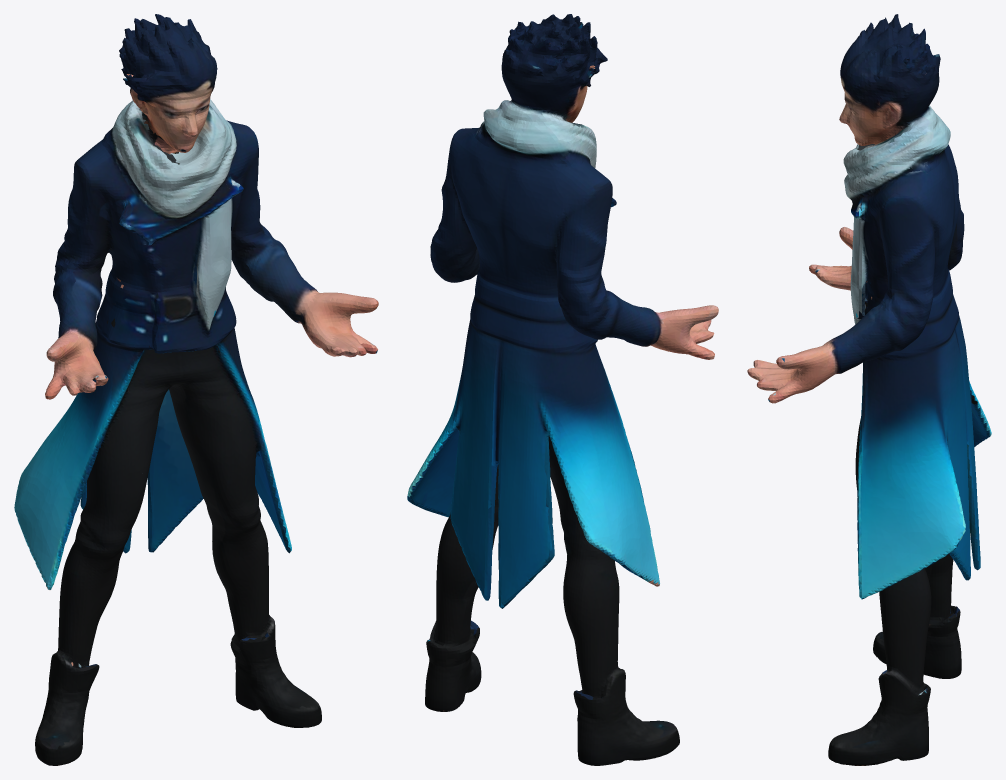
The model's file is kael.glb.
3 renders of one model, left to right at view 1: azimuth 30°, elevation 25°; view 2: azimuth 150°, elevation 25°; view 3: azimuth 270°, elevation 25°, orthographic. The views are drawn at different scales.
Visible parts, largest first — view 1: tmpfo5u2pxu.ply; view 2: tmpfo5u2pxu.ply; view 3: tmpfo5u2pxu.ply.
Part boxes in pixels (x1=…): tmpfo5u2pxu.ply: x1=14, y1=14, x2=378, y2=765; tmpfo5u2pxu.ply: x1=407, y1=14, x2=718, y2=765; tmpfo5u2pxu.ply: x1=747, y1=14, x2=991, y2=765.
Bounding box in the file's own units: 0.8651 × 1.99 × 0.6471.
Materials: 1 (1 with a texture image).
